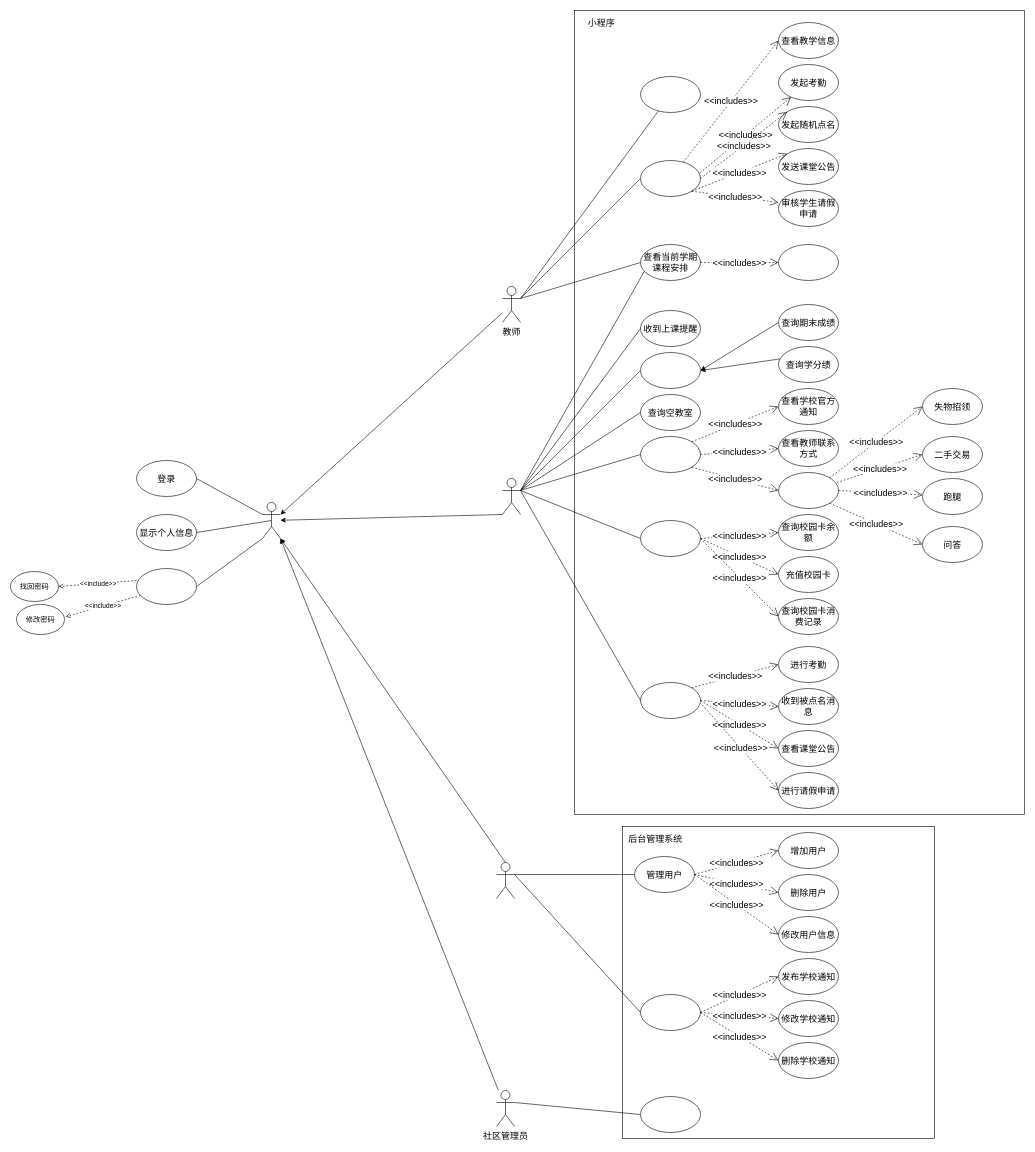
Some shapes in this 1035 by 1152 pixel diagram are drawn without their labels. Here are the shapes that lost their labels. From the top down, the centre of each, then its label:
At (x=670, y=94): "收到上课消息提醒".
At (x=670, y=178): "课堂管理".
At (x=808, y=262): "查看课程详细信息".
At (x=670, y=370): "查询成绩".
At (x=670, y=454): "了解校园资讯".
At (x=511, y=496): "学生".
At (x=808, y=490): "进行校园社区活动".
At (x=271, y=520): "用户".
At (x=670, y=538): "进行校园卡服务".
At (x=166, y=586): "修改个人信息".
At (x=670, y=700): "进行课堂服务".
At (x=505, y=880): "后台管理员".
At (x=670, y=1012): "管理学校通知".
At (x=670, y=1114): "审核校园社区板块信息".
